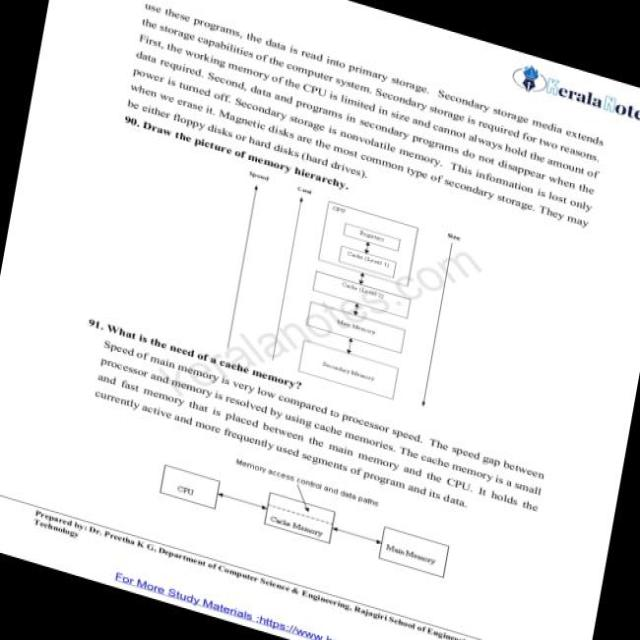Figure Detection - v3 Dataset Version2: (207, 161, 503, 430), (147, 424, 494, 606)
